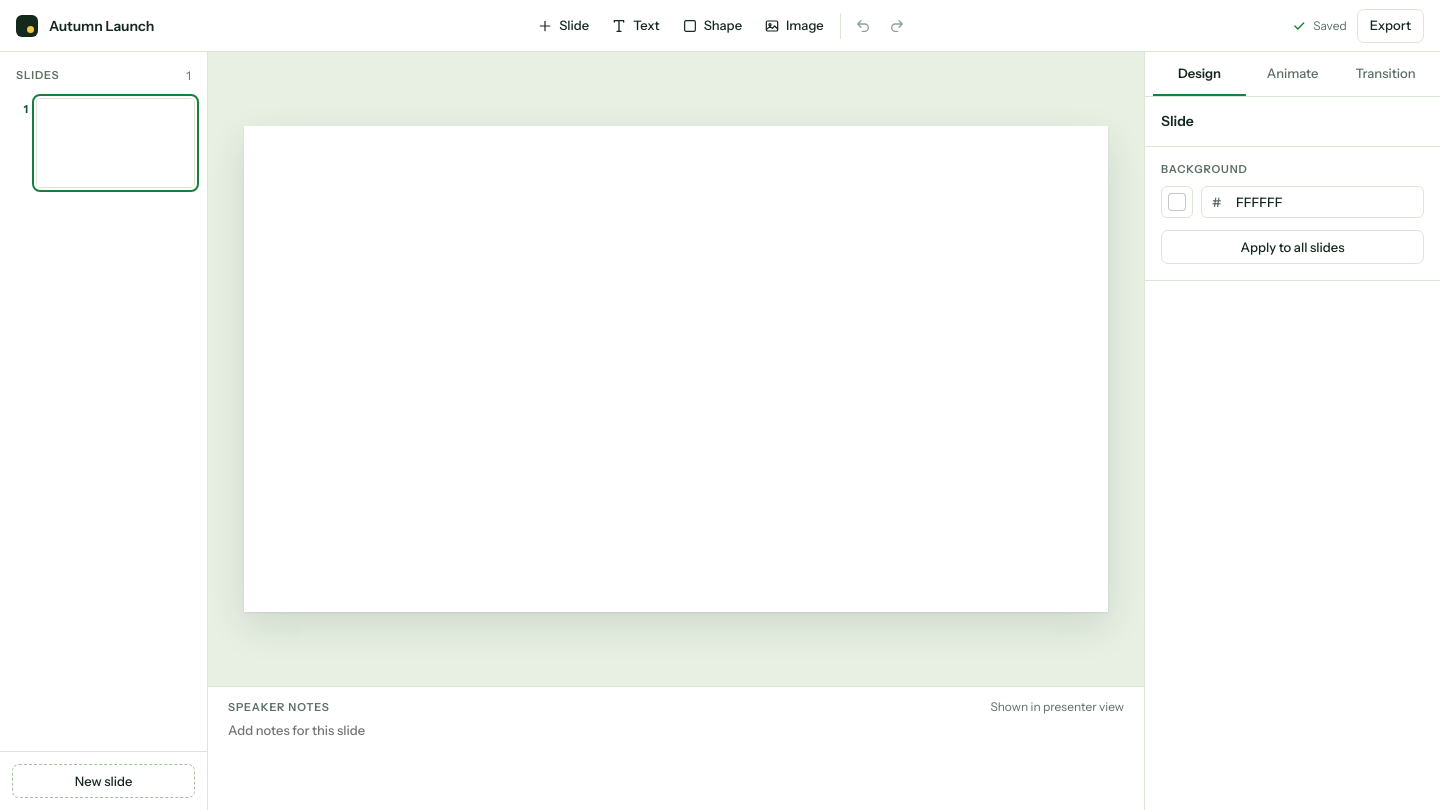
Test case: Given the Add image button, When it is hovered, Then its hint names it and shows its keys (element.image)
Check: the option named "Slide 1" is shown, box [12,98,195,188]
Hover over the button with aria-label "Add image" at (794, 26), box [754,10,834,42]
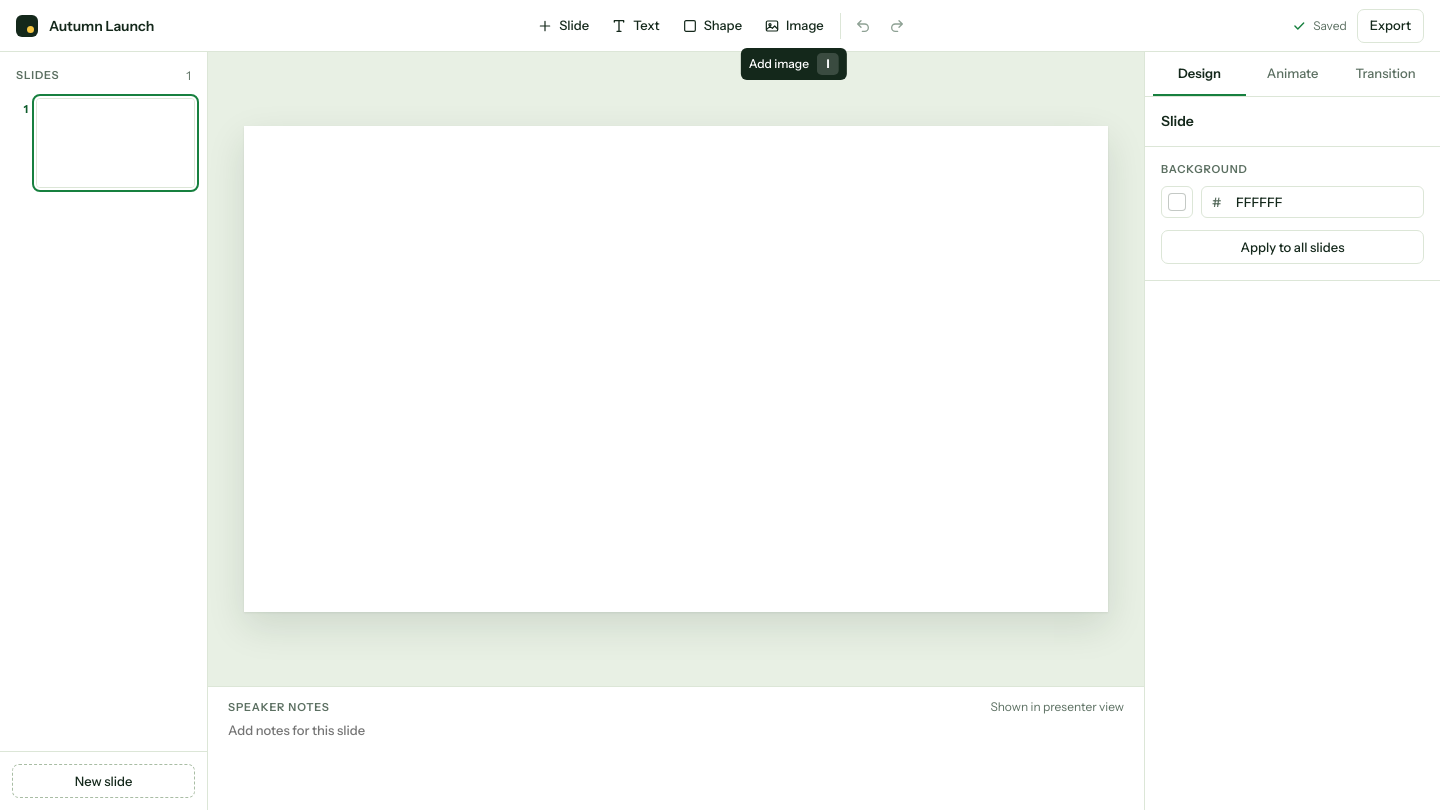
Check: the tooltip "Add image I" is shown, box [741,48,847,80]
